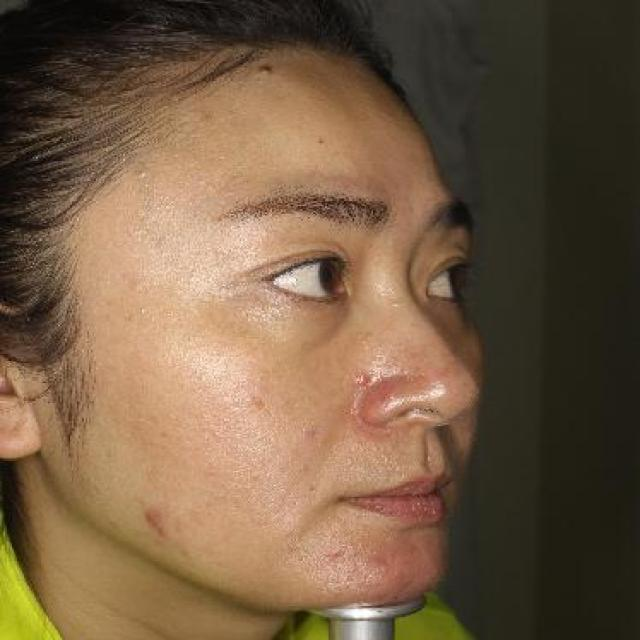nodules: (141, 499, 175, 539), (251, 60, 279, 80)
